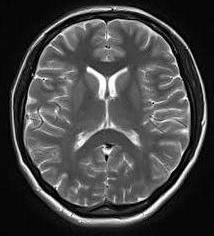Normal_Brain: (9, 6, 203, 236)
